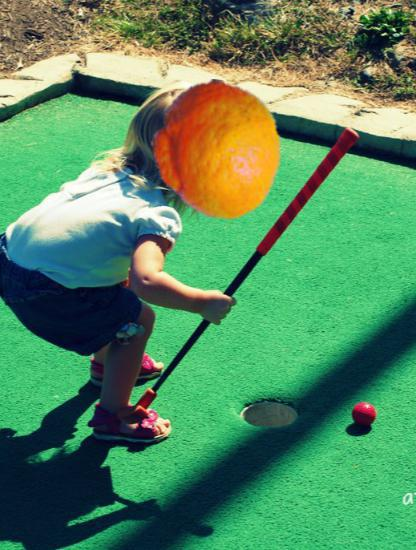Mandarine: (145, 80, 286, 221)
